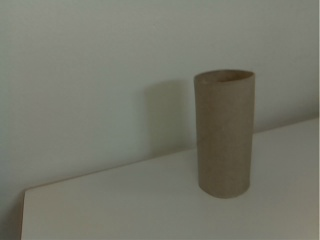rollo papel: (193, 68, 254, 203)
